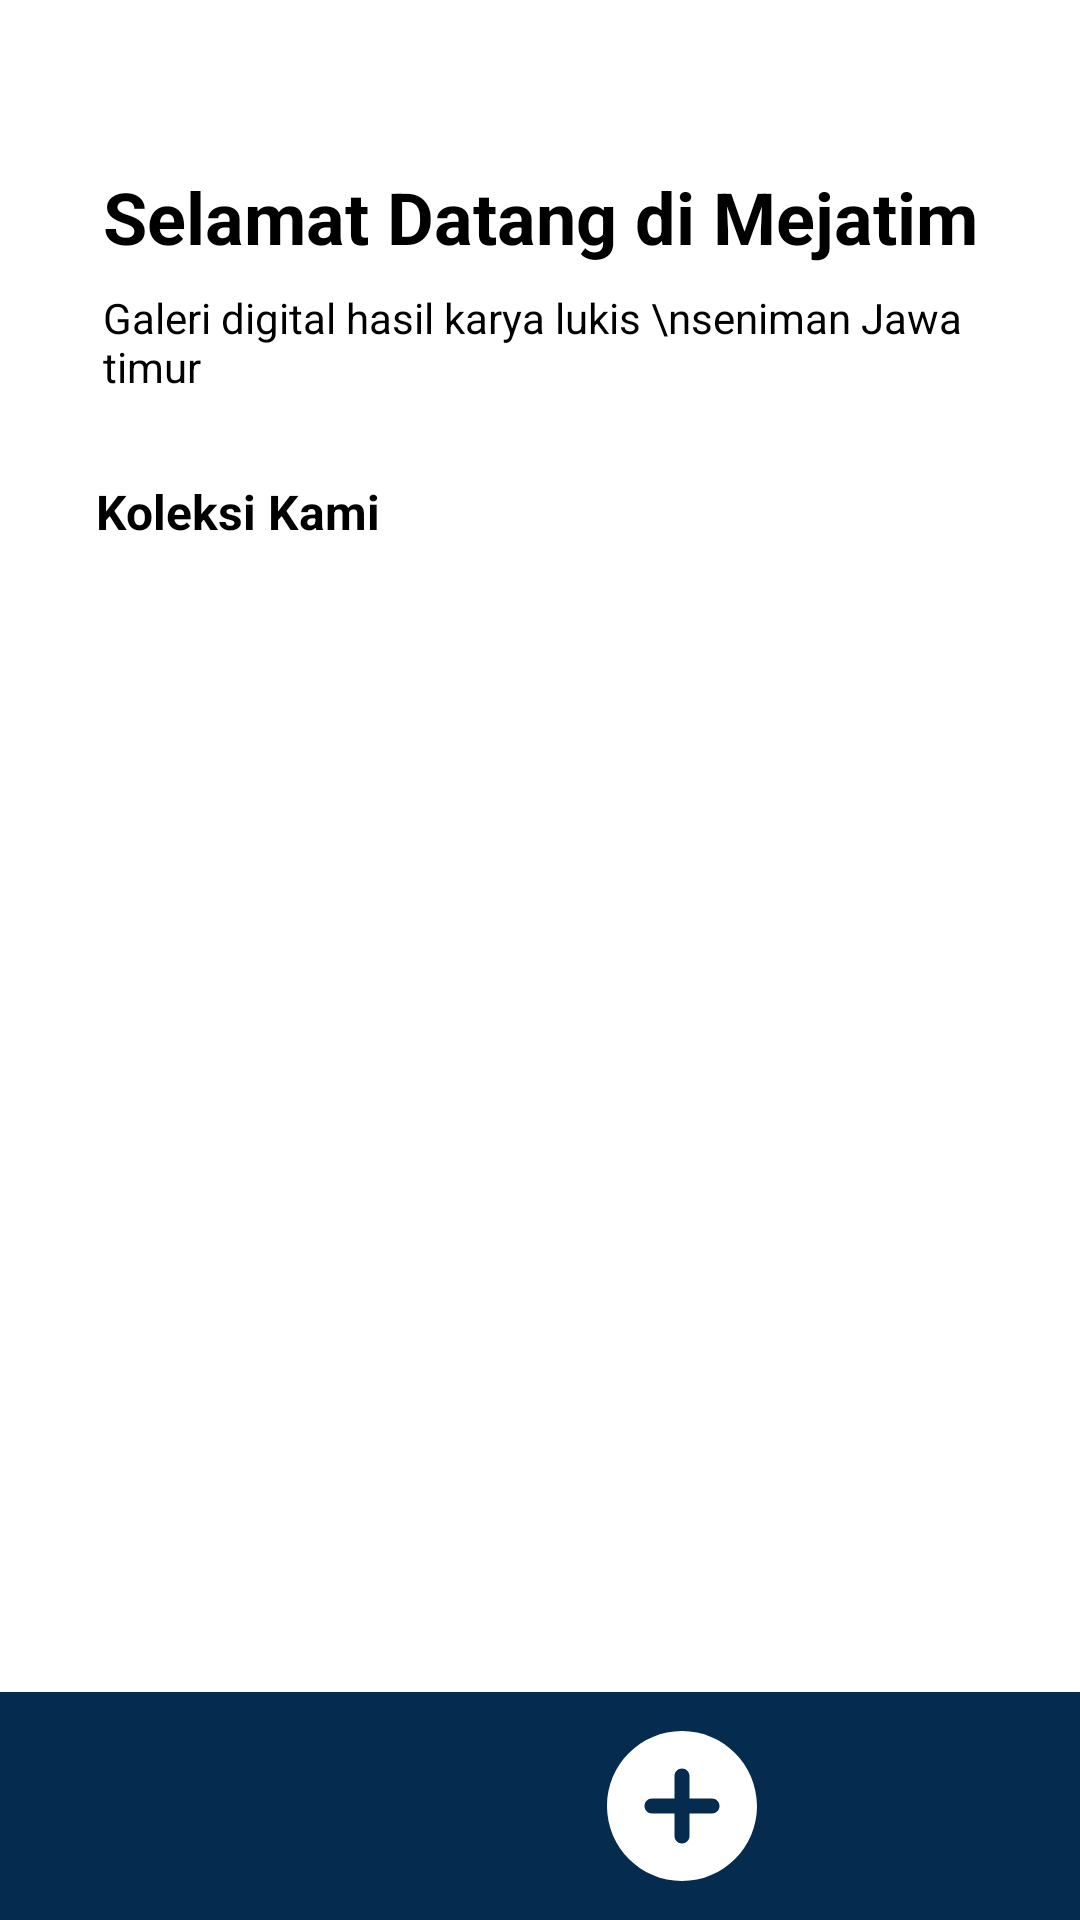

Icons on this 1080 x 1920 Android screen, each with its box as (x1, y1, x2, y2):
add circle: (607, 1731, 757, 1881)
